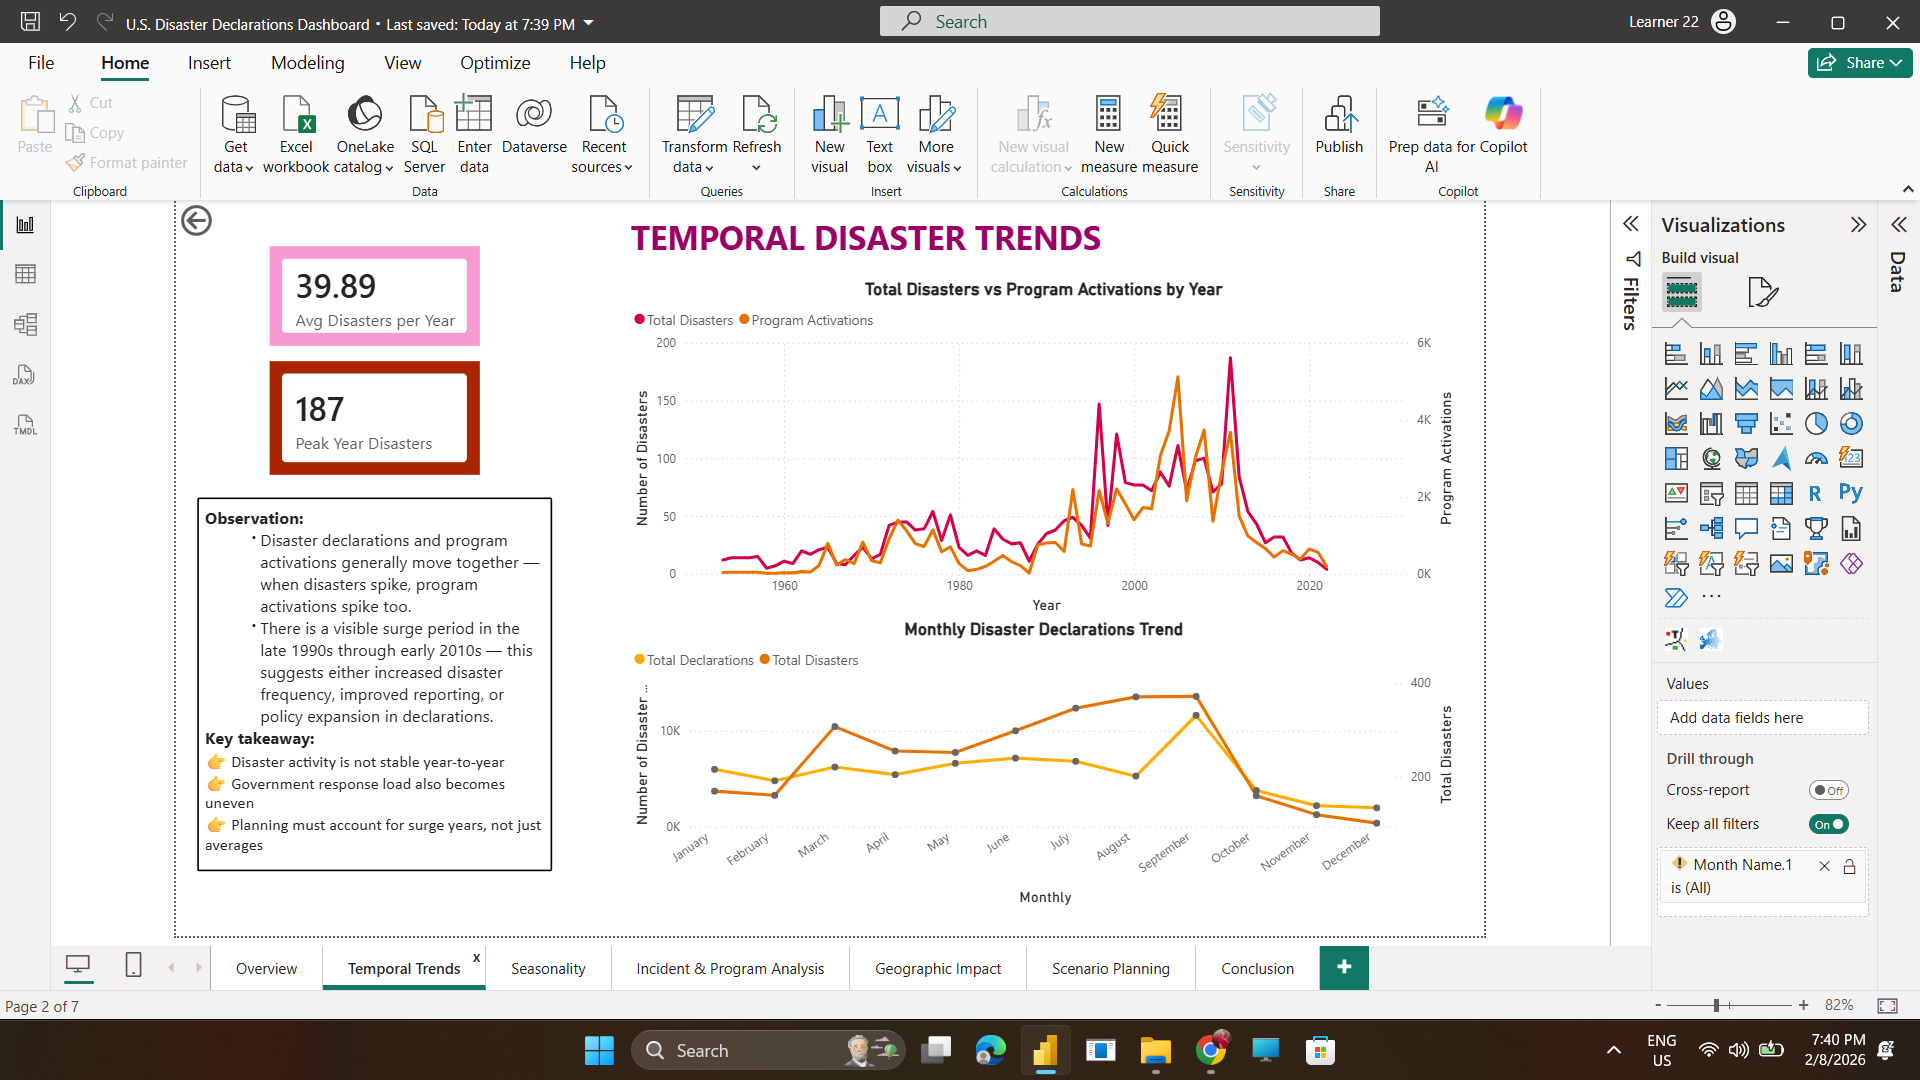

What the dashboard file says about the page in this screenshot:
{"tool":"powerbi","page":{"name":"Temporal Trends","canvas":[1280,720],"ordinal":1},"visuals":[{"type":"lineChart","title":"Total Disasters vs Program Activations by Year","fields":{"Y":["US Disaster_Declarations.Total_Disasters"],"Y2":["US Disaster_Declarations.Total_Declarations"],"Category":["DimDate.Year"]},"box":[442.5,77.5,812.5,332.5],"z":0},{"type":"textbox","box":[400,10,550,52.5],"z":1000},{"type":"cardVisual","fields":{"Data":["US Disaster_Declarations.Avg Disasters per Year"]},"box":[86.8,40.4,215.2,107.6],"z":2000},{"type":"cardVisual","fields":{"Data":["DimDate.Peak Year Disasters"]},"box":[86.8,152.9,215.2,121.1],"z":3000},{"type":"lineChart","title":"Monthly Disaster Declarations Trend","fields":{"Y":["Disaster frequency Adjustments (%).Total_Declarations"],"Category":["DimDate.Date.Variation.Date Hierarchy.Month"],"Y2":["US Disaster_Declarations.Total Disasters"]},"box":[442.5,410,812.5,285],"z":4000},{"type":"actionButton","box":[0,0,100,40],"z":5000},{"type":"textbox","box":[20.8,291,347.3,365.6],"z":6000}]}

Visuals, with their boxes on the page's 1280x720 design canvas (x1, y1, x2, y2). These are canvas units, not pixel positions in the 1920x1080 screenshot, which may show the page scaled, cropped or inside an application window:
"Total Disasters vs Program Activations by Year" lineChart: {"left": 442, "top": 78, "right": 1255, "bottom": 410}
textbox: {"left": 400, "top": 10, "right": 950, "bottom": 62}
cardVisual - US Disaster_Declarations.Avg Disasters per Year: {"left": 87, "top": 40, "right": 302, "bottom": 148}
cardVisual - DimDate.Peak Year Disasters: {"left": 87, "top": 153, "right": 302, "bottom": 274}
"Monthly Disaster Declarations Trend" lineChart: {"left": 442, "top": 410, "right": 1255, "bottom": 695}
actionButton: {"left": 0, "top": 0, "right": 100, "bottom": 40}
textbox: {"left": 21, "top": 291, "right": 368, "bottom": 657}
